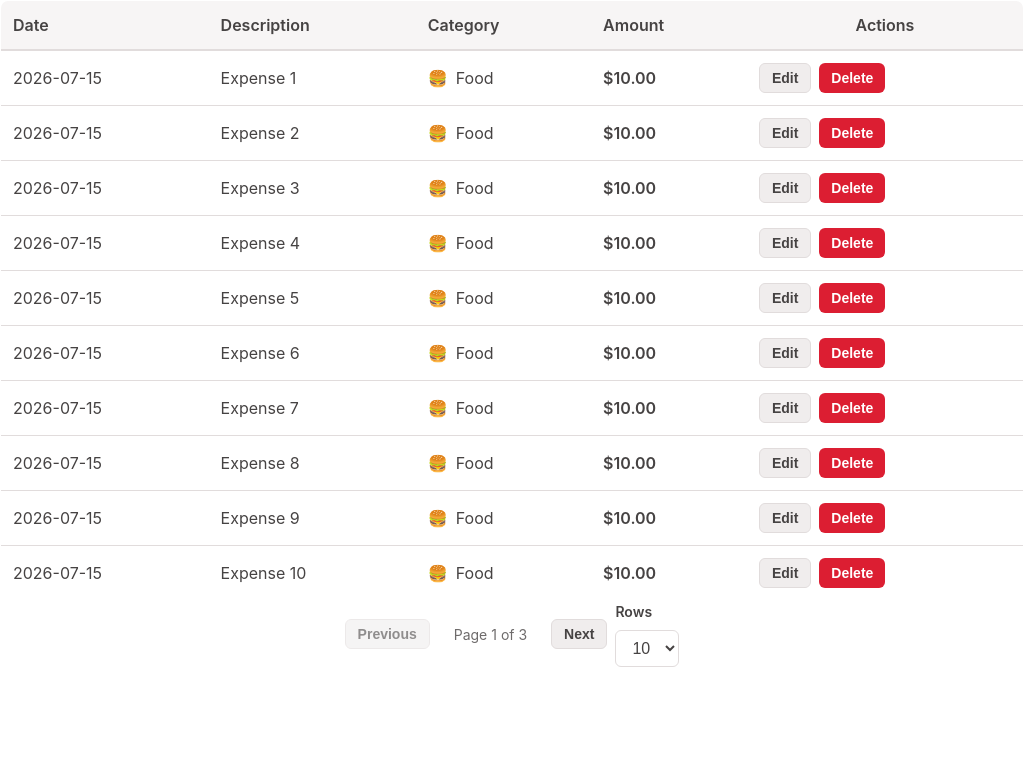
Test: CalendarExpenseTable › shows more rows per page when a larger page size is selected
This screenshot has width=1024, height=768.
Expected: the text "Expense 25" is not shown
Select "25" in the dropdown labelled "Rows" at (647, 648), box [615,630,679,667]
(page scrolled)
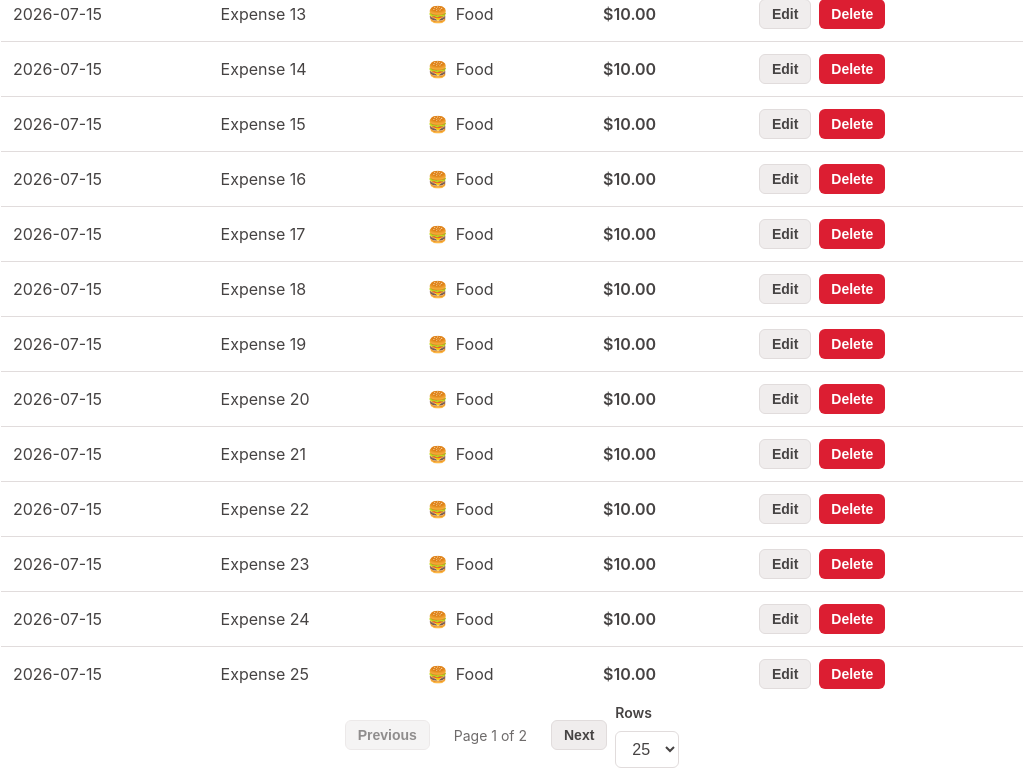
Result: the text "Expense 25" is shown at [209,646,416,702]
